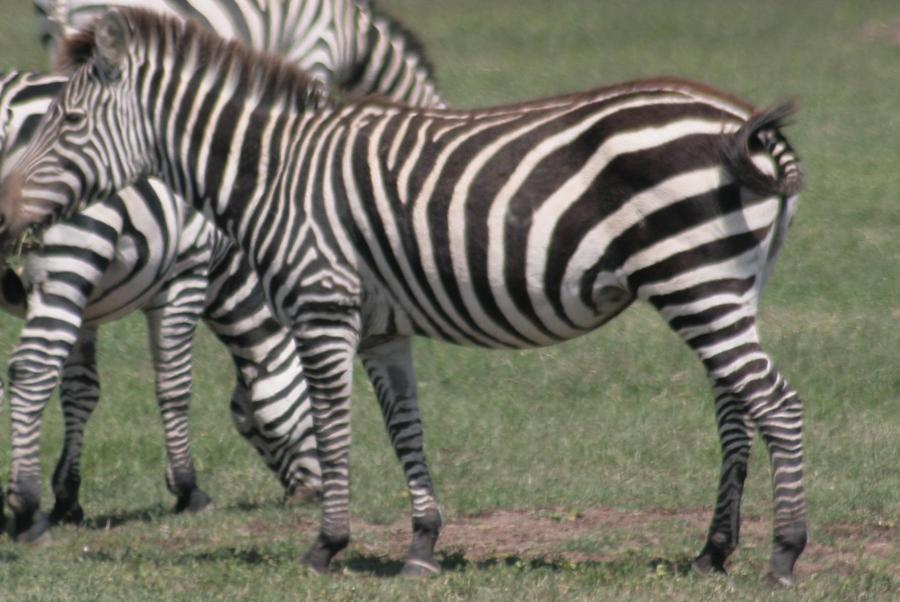zebra_plains: (234, 68, 805, 361)
